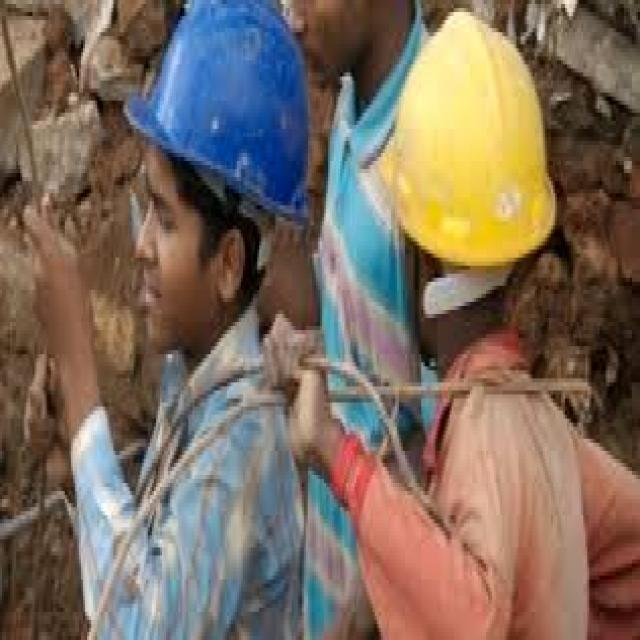Reflective-Jacket: (294, 334, 638, 640)
Safety-Helmet: (377, 8, 571, 298), (123, 4, 316, 242)
